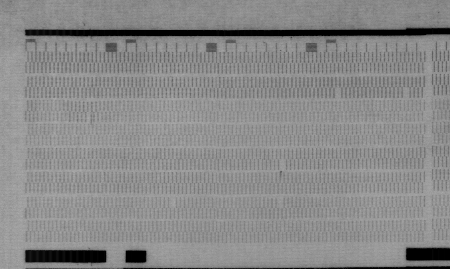Broken hole: (277, 158, 289, 171), (274, 195, 286, 208), (400, 87, 412, 100), (332, 86, 343, 100), (167, 197, 178, 209)
Oblique printing: (84, 111, 96, 124)
